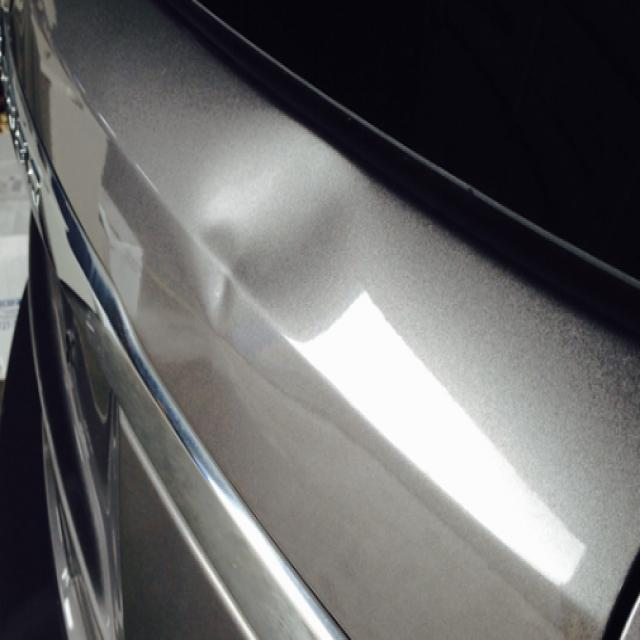dents: (181, 175, 374, 368)
